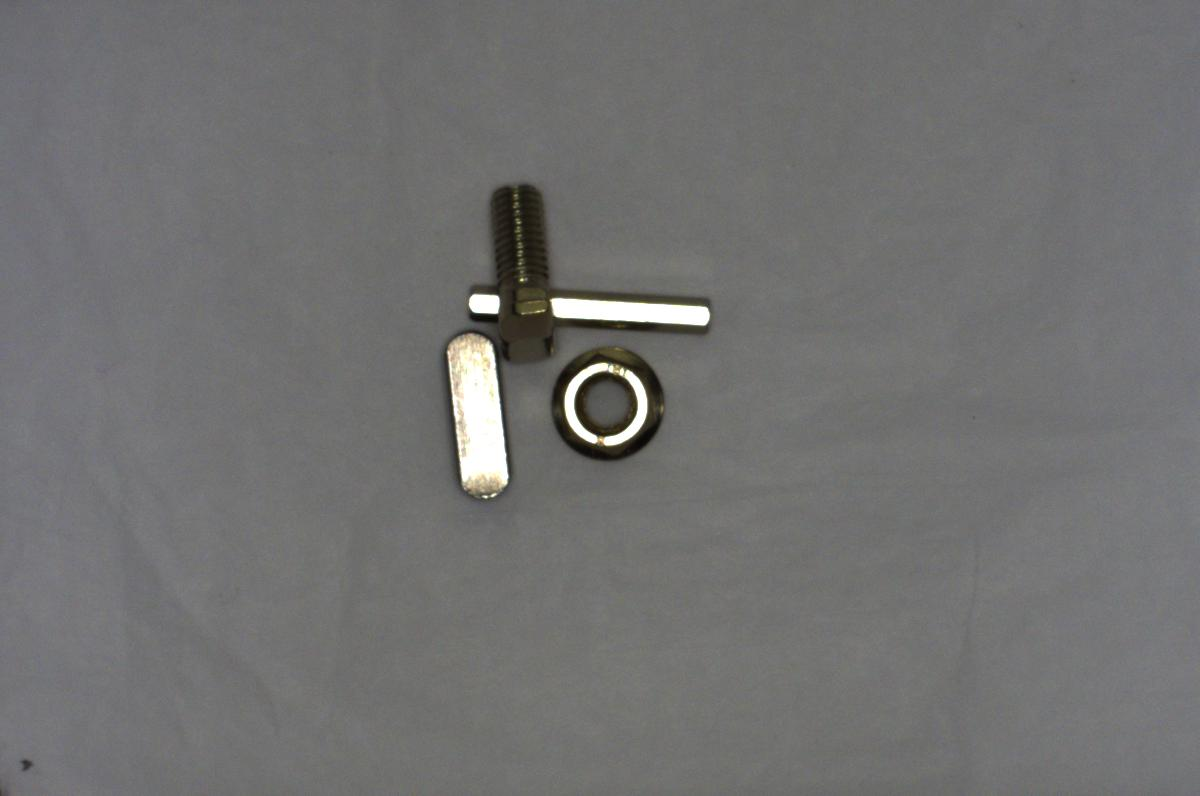Double hexagonal column: (465, 273, 721, 338)
Flange nut: (551, 338, 675, 468)
Keybar: (441, 325, 511, 510)
T-shaped screw: (479, 178, 565, 368)
